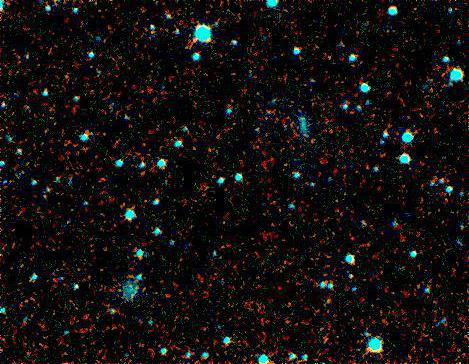star: (181, 27, 211, 57)
